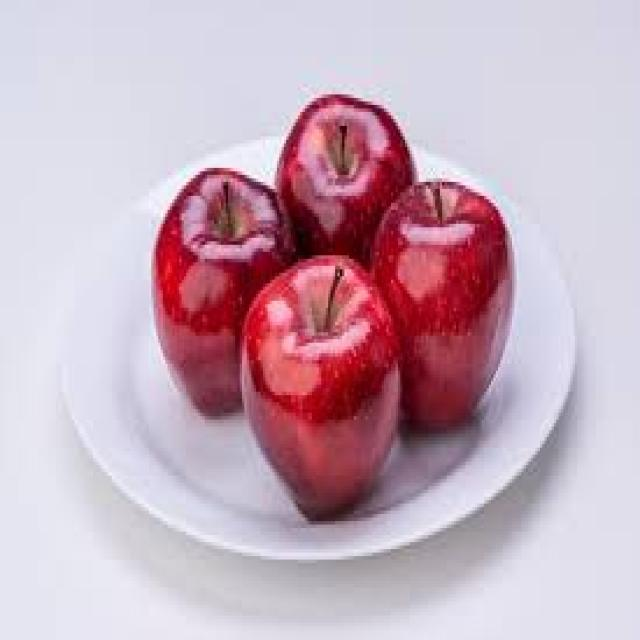non_orange: (234, 245, 418, 518), (142, 132, 298, 425), (374, 163, 526, 429), (258, 58, 408, 290)
